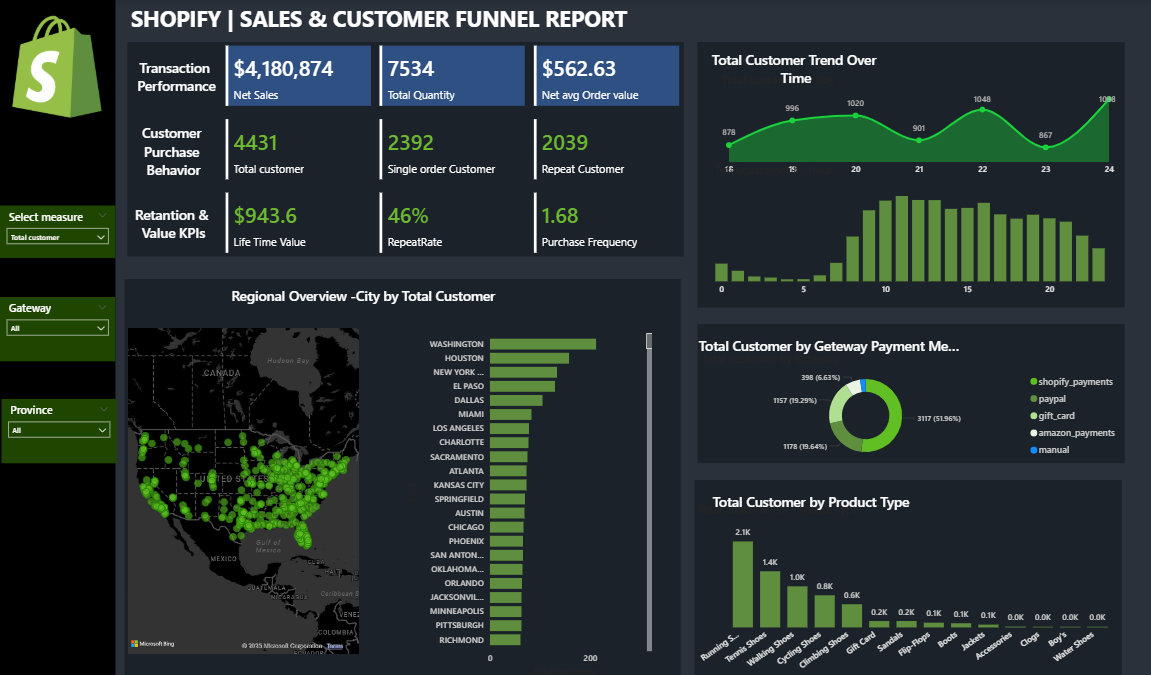

Layout of this report page (visuals, bound fields, positions):
{"tool":"powerbi","page":{"name":"Shopify Analysis","canvas":[1700,1000],"ordinal":0},"visuals":[{"type":"shape","box":[0,0,170.1,1000.8],"z":0},{"type":"textbox","box":[187.8,0,742.3,61.9],"z":1000},{"type":"shape","box":[187.8,61.9,819.6,315.9],"z":2000},{"type":"cardVisual","fields":{"Data":["shopify_sales.Net Sales","shopify_sales.Total Quantity","shopify_sales.Net avg Order value"]},"box":[327,61.9,680.4,99.4],"z":3000},{"type":"card","fields":{"Values":["shopify_sales.Transaction prf"]},"box":[187.8,61.9,143.6,99.4],"z":4000},{"type":"cardVisual","fields":{"Data":["shopify_sales.Total customer","shopify_sales.Single order Customer","shopify_sales.Multiple customer order"]},"box":[327,170.1,680.4,99.4],"z":5000},{"type":"card","fields":{"Values":["shopify_sales.cust pur beha"]},"box":[183.4,167.9,143.6,99.4],"z":6000},{"type":"cardVisual","fields":{"Data":["shopify_sales.Life Time Value","shopify_sales.RepeatRate","shopify_sales.Purchase Frequency"]},"box":[327,278.4,680.4,99.4],"z":7000},{"type":"card","fields":{"Values":["shopify_sales.retention value"]},"box":[183.4,278.4,143.6,99.4],"z":8000},{"type":"shape","box":[183.4,410.9,819.6,589.9],"z":9000},{"type":"slicer","fields":{"Values":["select measure.select measure"]},"box":[0,302.7,170.1,77.3],"z":10000},{"type":"map","fields":{"Category":["shopify_sales.Location"]},"box":[183.4,477.2,351.3,490.4],"z":11000},{"type":"clusteredBarChart","fields":{"Y":["shopify_sales.Net Sales"],"Category":["shopify_sales.CITY"]},"box":[594.3,477.2,371.1,523.6],"z":12000},{"type":"card","fields":{"Values":["shopify_sales.Map Title"]},"box":[236.4,404.3,596.5,66.3],"z":13000},{"type":"shape","box":[1027.3,61.9,629.6,391],"z":14000},{"type":"areaChart","fields":{"Y":["shopify_sales.Net Sales"],"Category":["shopify_sales.Invoice Date.Variation.Date Hierarchy.Day"]},"box":[1058.2,108.2,589.9,159.1],"z":15000},{"type":"columnChart","fields":{"Y":["shopify_sales.Net Sales"],"Category":["shopify_sales.Hour"]},"box":[1047.2,240.8,609.7,203.2],"z":16000},{"type":"card","fields":{"Values":["shopify_sales.Trend title"]},"box":[1022.9,61.9,298.2,75.1],"z":17000},{"type":"shape","box":[1027.3,477.2,629.6,205],"z":18000},{"type":"donutChart","fields":{"Y":["shopify_sales.Net Sales"],"Category":["shopify_sales.Gateway"]},"box":[1027.3,519.2,629.6,165.7],"z":19000},{"type":"card","fields":{"Values":["shopify_sales.Getway Title"]},"box":[1022.9,477.2,395.4,66.3],"z":20000},{"type":"shape","box":[1022.9,706.9,629.6,293.8],"z":21000},{"type":"columnChart","fields":{"Y":["shopify_sales.Net Sales"],"Category":["shopify_sales.Product Type"]},"box":[1022.9,740.1,629.6,260.7],"z":22000},{"type":"card","fields":{"Values":["shopify_sales.Product Title"]},"box":[1027.3,706.9,333.6,66.3],"z":23000},{"type":"slicer","fields":{"Values":["shopify_sales.Gateway"]},"box":[0,437.4,170.1,95],"z":24000},{"type":"slicer","fields":{"Values":["shopify_sales.Billing Address Province"]},"box":[2.2,587.6,170.1,95],"z":25000},{"type":"image","box":[6.6,17.7,154.6,161.3],"z":26000}]}

Visuals, with their boxes on the page's 1700x1000 design canvas (x1, y1, x2, y2). These are canvas units, not pixel positions in the 1151x675 screenshot, which may show the page scaled, cropped or inside an application window:
shape: detection(0, 0, 170, 1001)
textbox: detection(188, 0, 930, 62)
shape: detection(188, 62, 1007, 378)
cardVisual - shopify_sales.Net Sales x shopify_sales.Total Quantity: detection(327, 62, 1007, 161)
card - shopify_sales.Transaction prf: detection(188, 62, 331, 161)
cardVisual - shopify_sales.Total customer x shopify_sales.Single order Customer: detection(327, 170, 1007, 270)
card - shopify_sales.cust pur beha: detection(183, 168, 327, 267)
cardVisual - shopify_sales.Life Time Value x shopify_sales.RepeatRate: detection(327, 278, 1007, 378)
card - shopify_sales.retention value: detection(183, 278, 327, 378)
shape: detection(183, 411, 1003, 1001)
slicer - select measure.select measure: detection(0, 303, 170, 380)
map - shopify_sales.Location: detection(183, 477, 535, 968)
clusteredBarChart - shopify_sales.Net Sales x shopify_sales.CITY: detection(594, 477, 965, 1001)
card - shopify_sales.Map Title: detection(236, 404, 833, 471)
shape: detection(1027, 62, 1657, 453)
areaChart - shopify_sales.Net Sales x shopify_sales.Invoice Date.Variation.Date Hierarchy.Day: detection(1058, 108, 1648, 267)
columnChart - shopify_sales.Net Sales x shopify_sales.Hour: detection(1047, 241, 1657, 444)
card - shopify_sales.Trend title: detection(1023, 62, 1321, 137)
shape: detection(1027, 477, 1657, 682)
donutChart - shopify_sales.Net Sales x shopify_sales.Gateway: detection(1027, 519, 1657, 685)
card - shopify_sales.Getway Title: detection(1023, 477, 1418, 544)
shape: detection(1023, 707, 1652, 1001)
columnChart - shopify_sales.Net Sales x shopify_sales.Product Type: detection(1023, 740, 1652, 1001)
card - shopify_sales.Product Title: detection(1027, 707, 1361, 773)
slicer - shopify_sales.Gateway: detection(0, 437, 170, 532)
slicer - shopify_sales.Billing Address Province: detection(2, 588, 172, 683)
image: detection(7, 18, 161, 179)
